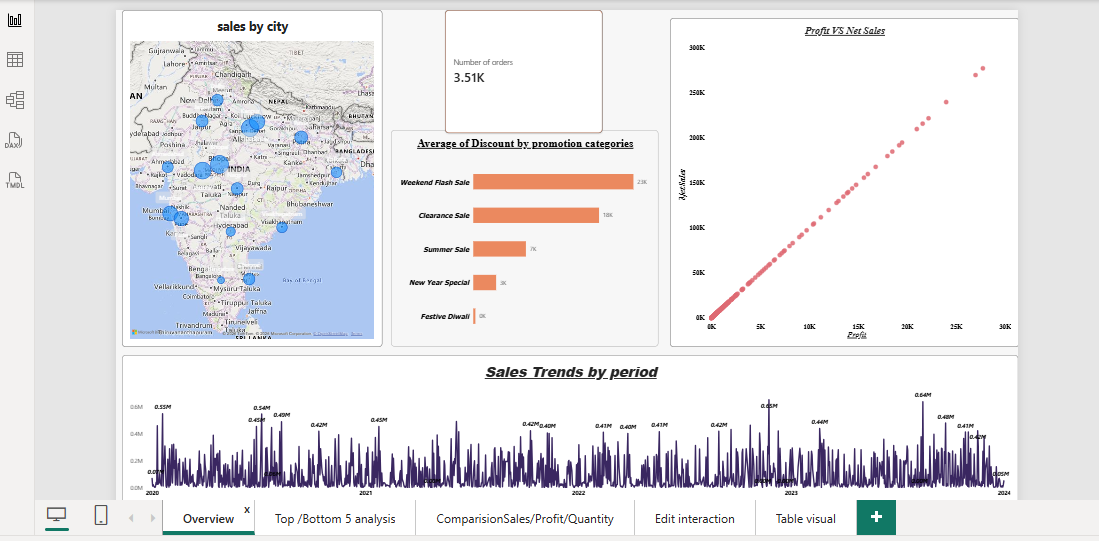

The page's visual inventory and layout, read from the dashboard file:
{"tool":"powerbi","page":{"name":"Overview","canvas":[1920,1080],"ordinal":0},"visuals":[{"type":"lineChart","title":"Sales Trends by period","fields":{"Category":["Fact Table.Date (dd/mm/yyyy).Variation.Date Hierarchy.Year"],"Y":["Sum(Fact Table.Net Sales)"]},"box":[13,733.3,1907.4,324.1],"z":0},{"type":"scatterChart","title":"Profit VS Net Sales","fields":{"X":["Fact Table.Profit"],"Y":["Fact Table.Net Sales"]},"box":[1177.8,16.7,742.6,700],"z":1000},{"type":"barChart","title":"Average of Discount by promotion categories","fields":{"Category":["Dim Promotion.Promotion Name"],"Y":["Avg(Fact Table.Discount)"]},"box":[584.6,254.5,569.4,461.1],"z":2000},{"type":"map","title":"sales by city","fields":{"Category":["Dim Customers.City"],"Size":["Sum(Fact Table.Net Sales)"]},"box":[13,0,553.7,716.7],"z":3000},{"type":"cardVisual","fields":{"Data":["Count(Fact Table.Order ID)"]},"box":[700.5,0,335.1,262],"z":4000}]}

Visuals, with their boxes on the page's 1920x1080 design canvas (x1, y1, x2, y2). These are canvas units, not pixel positions in the 1099x541 screenshot, which may show the page scaled, cropped or inside an application window:
"Sales Trends by period" lineChart: <bbox>13, 733, 1920, 1057</bbox>
"Profit VS Net Sales" scatterChart: <bbox>1178, 17, 1920, 717</bbox>
"Average of Discount by promotion categories" barChart: <bbox>585, 254, 1154, 716</bbox>
"sales by city" map: <bbox>13, 0, 567, 717</bbox>
cardVisual - Count(Fact Table.Order ID): <bbox>700, 0, 1036, 262</bbox>
